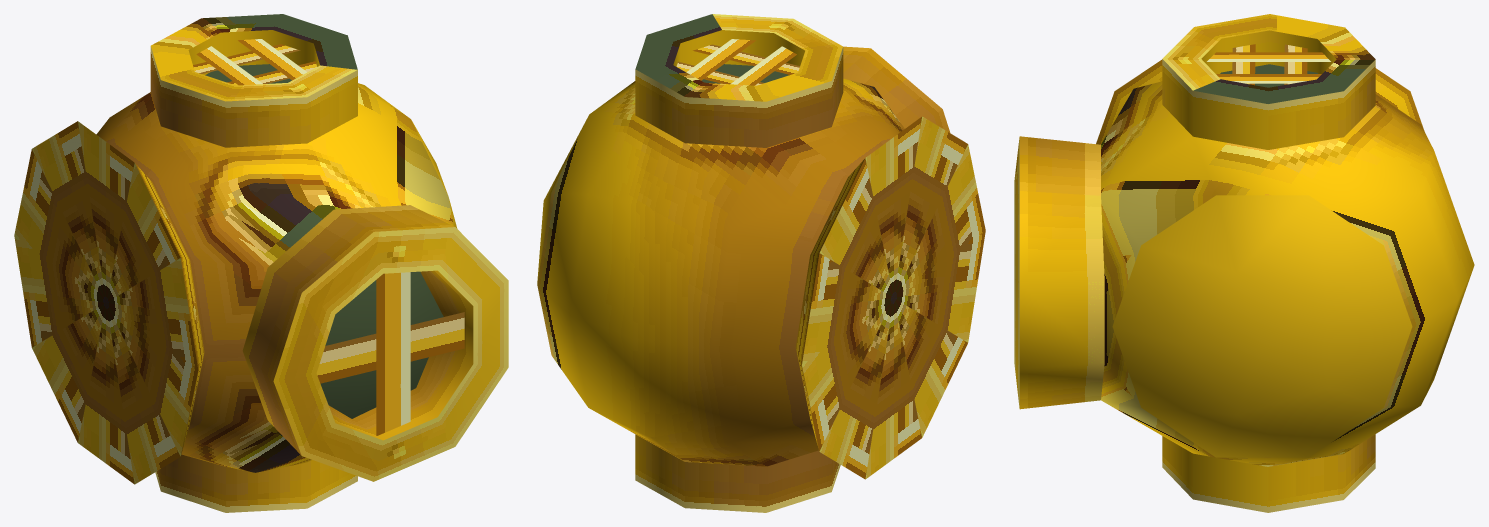
File: hlmt_mask_diving.dae
3 renders of one model, left to right at view 1: azimuth 30°, elevation 25°; view 2: azimuth 150°, elevation 25°; view 3: azimuth 270°, elevation 25°, orthographic.
Parts seen in each view (by area): view 1: hlmt_mask_diving; view 2: hlmt_mask_diving; view 3: hlmt_mask_diving.
Boxes of the visible parts, x1,y1,x2,y2 form: hlmt_mask_diving: (14, 14, 508, 512); hlmt_mask_diving: (537, 14, 985, 512); hlmt_mask_diving: (1014, 14, 1474, 512).
Size of the model in its own units: 22.52 by 27.09 by 27.64.
1 material, 1 textured.
